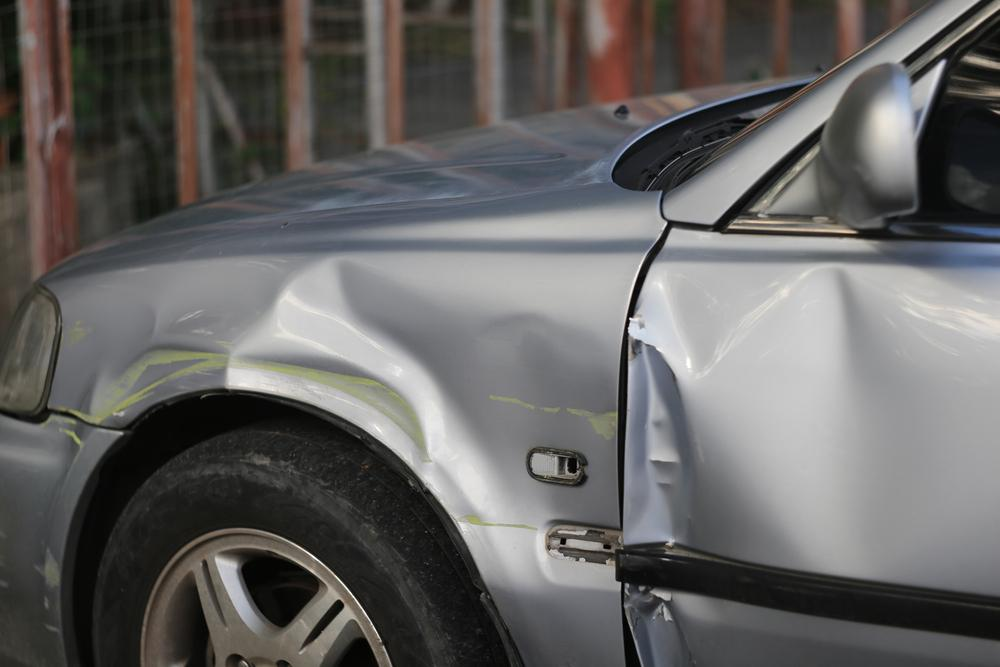dent: (78, 253, 620, 587), (623, 261, 1000, 577), (624, 584, 723, 667)
